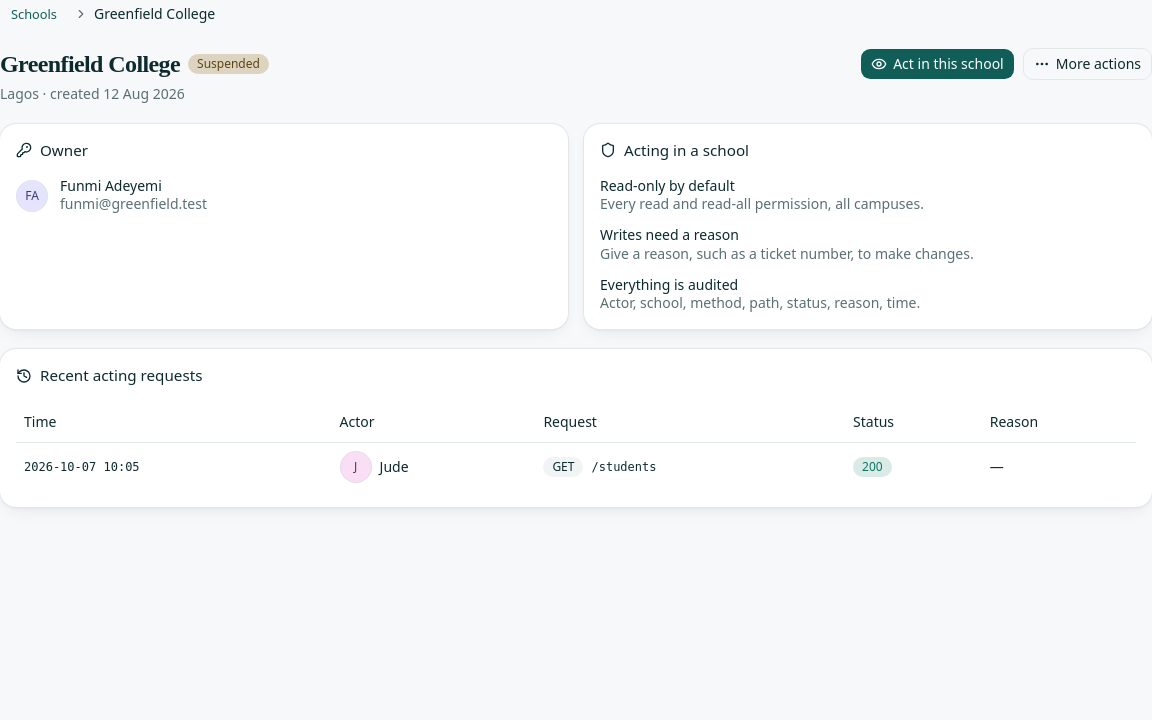
Test case: Reactivate dialog › shows a 409 when the school is not suspended
Click the button "More actions".
click(1087, 64)  # box [1023,48,1151,80]
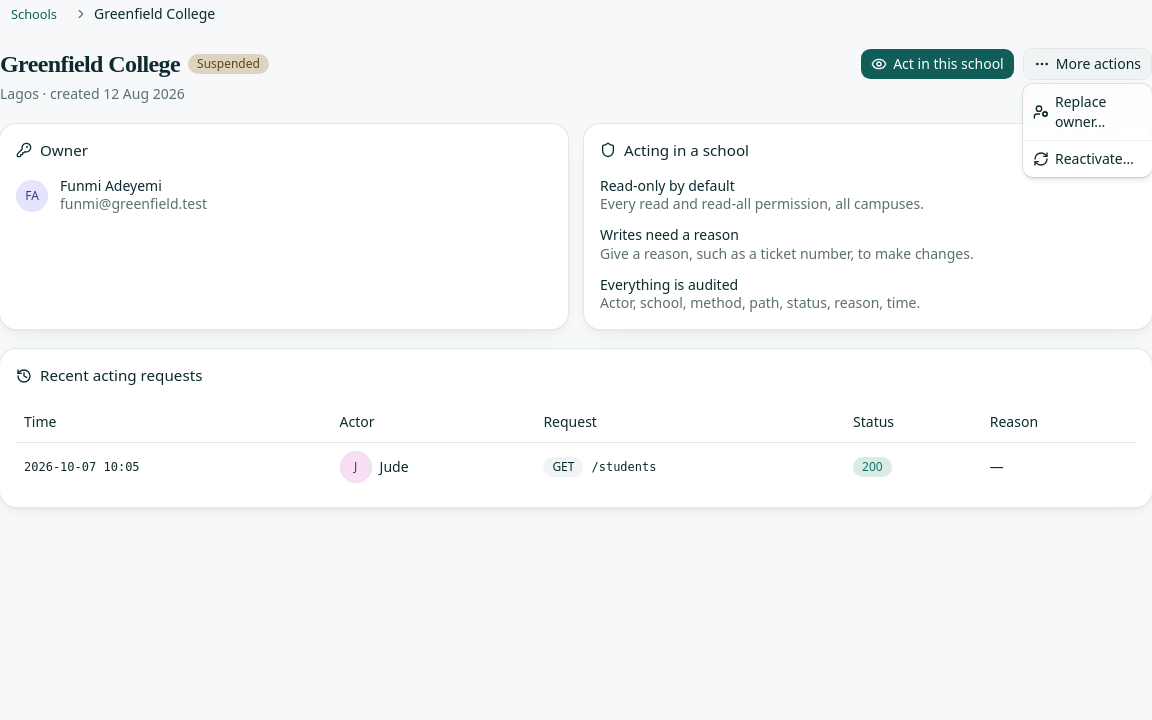
Click the menu item "Reactivate…".
click(1083, 158)  # box [1033,149,1134,168]
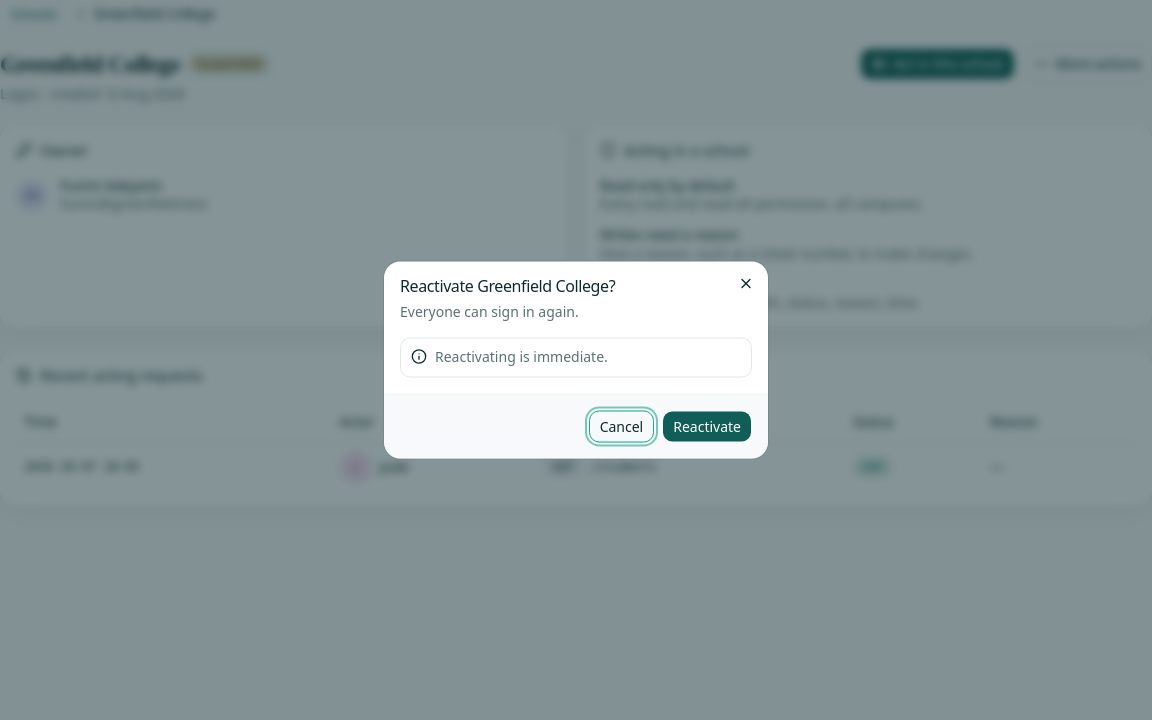
Click the button "Reactivate".
click(707, 426)  # box [662,410,752,442]
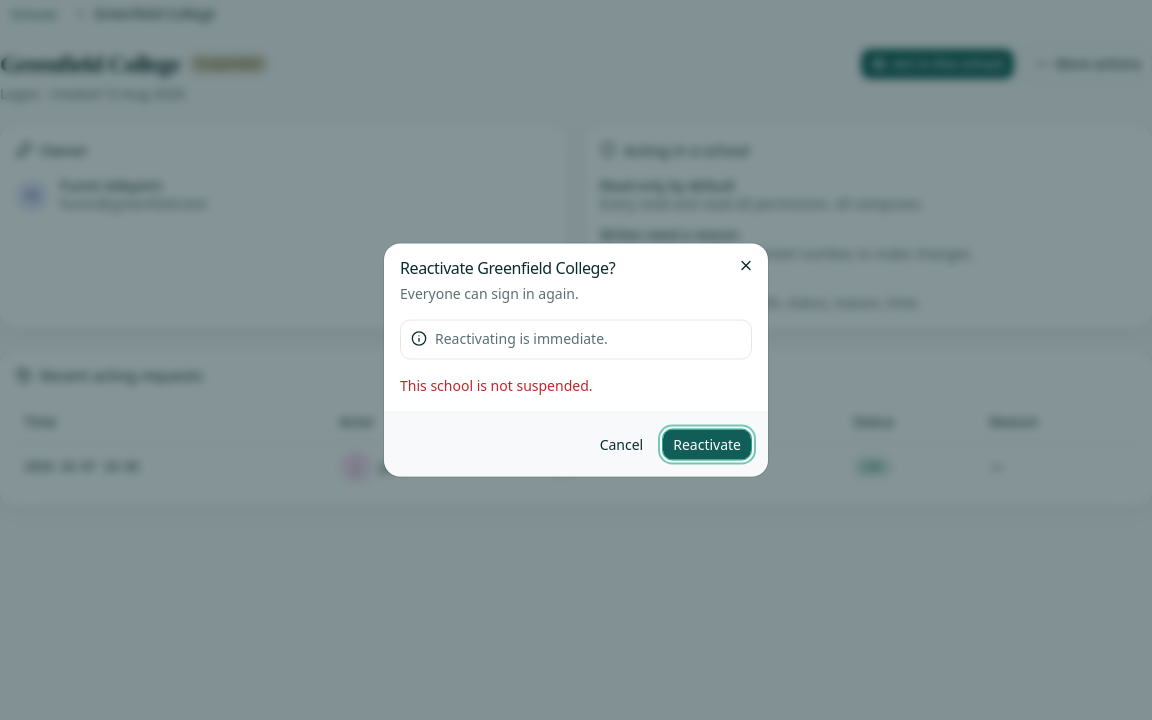
Expected: the text "This school is not suspended." is shown, [400,376,592,394]
